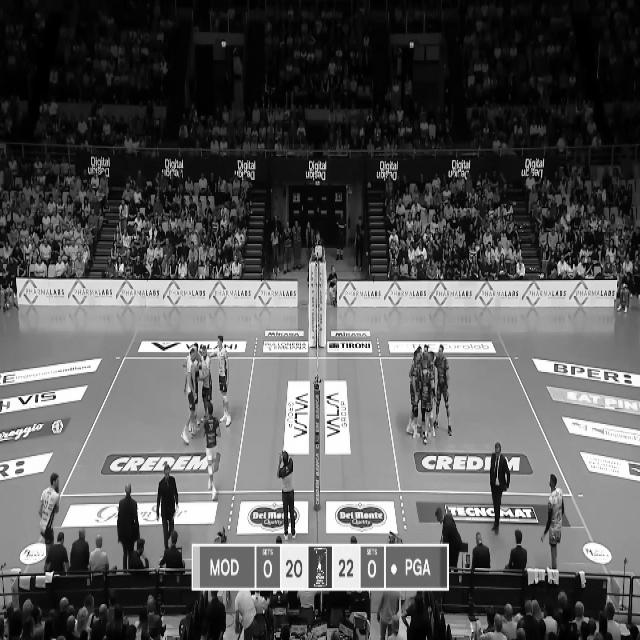volleyball court: (58, 352, 573, 496)
